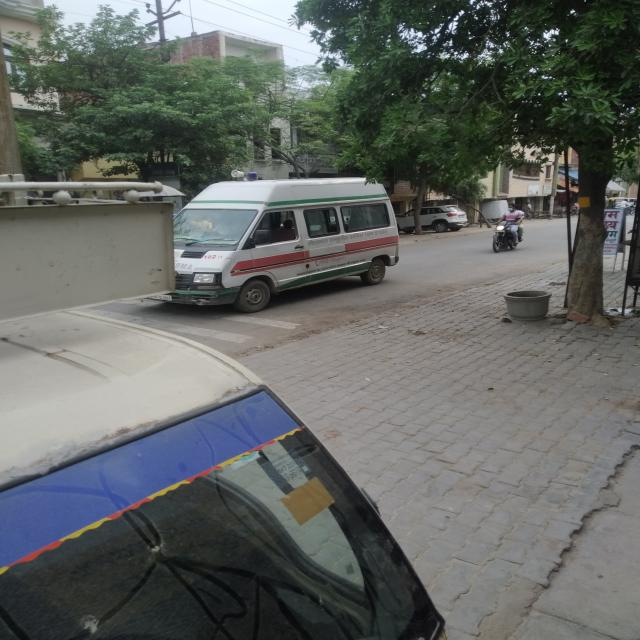Car: (182, 181, 404, 306)
